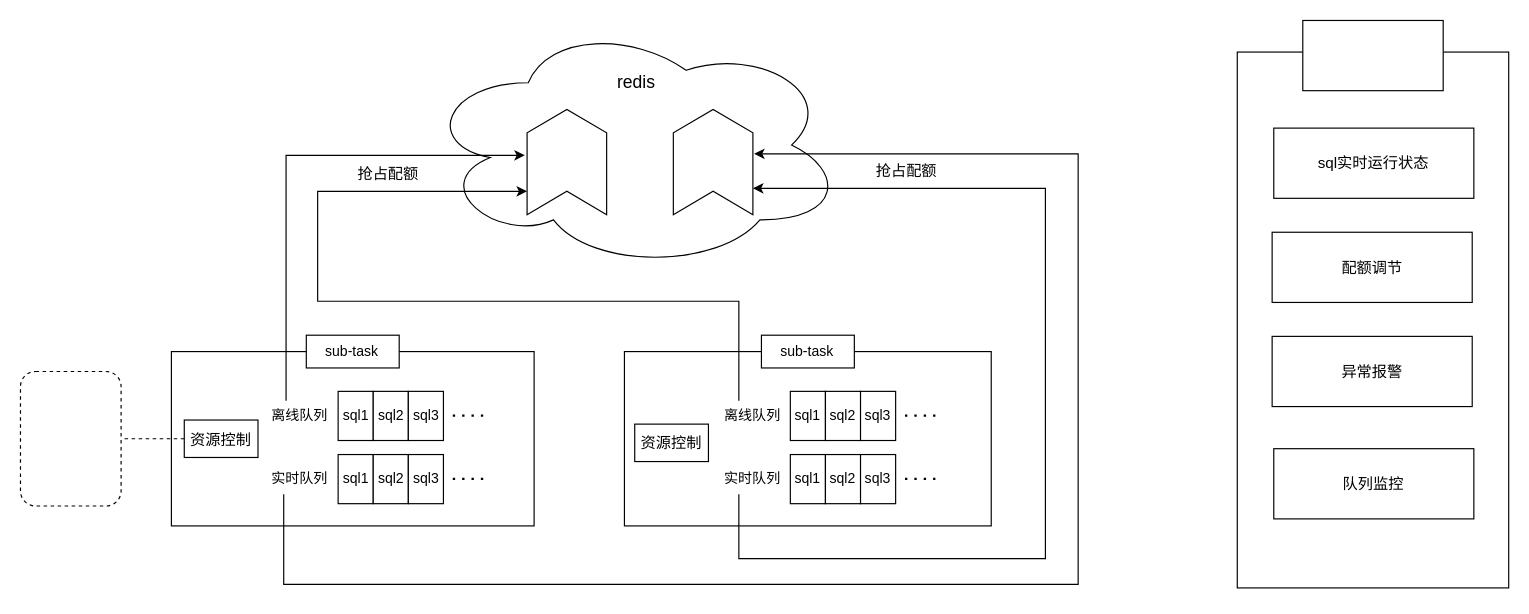
This 1529x614 diagram has some shape labels left out. The shapes that lost their labels are listed below. From the top down, each one's centre as x and y in pixels, then its label:
At pixel 1372 55: "监控 / 管理后台".
At pixel 566 161: "离线配额".
At pixel 712 161: "实时配额".
At pixel 70 438: "自动识别sql语句复杂度，为每个语句设置合理的并发度".
